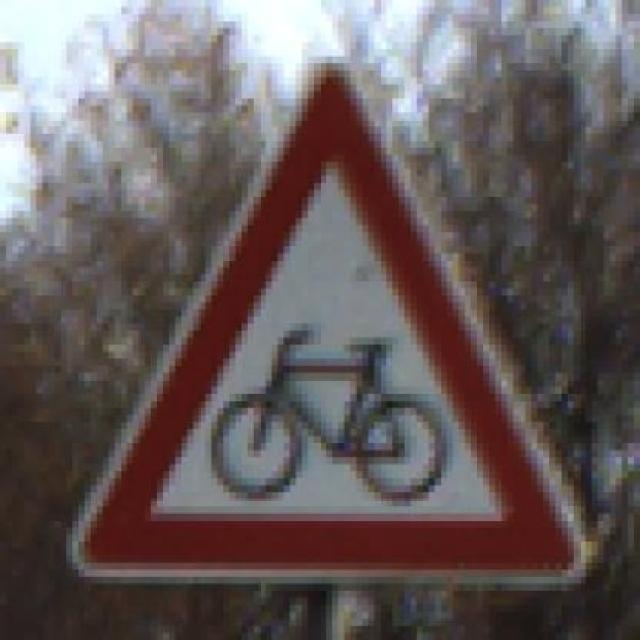CYCLE ROUTE AHEAD WARNING: (72, 28, 592, 590)
